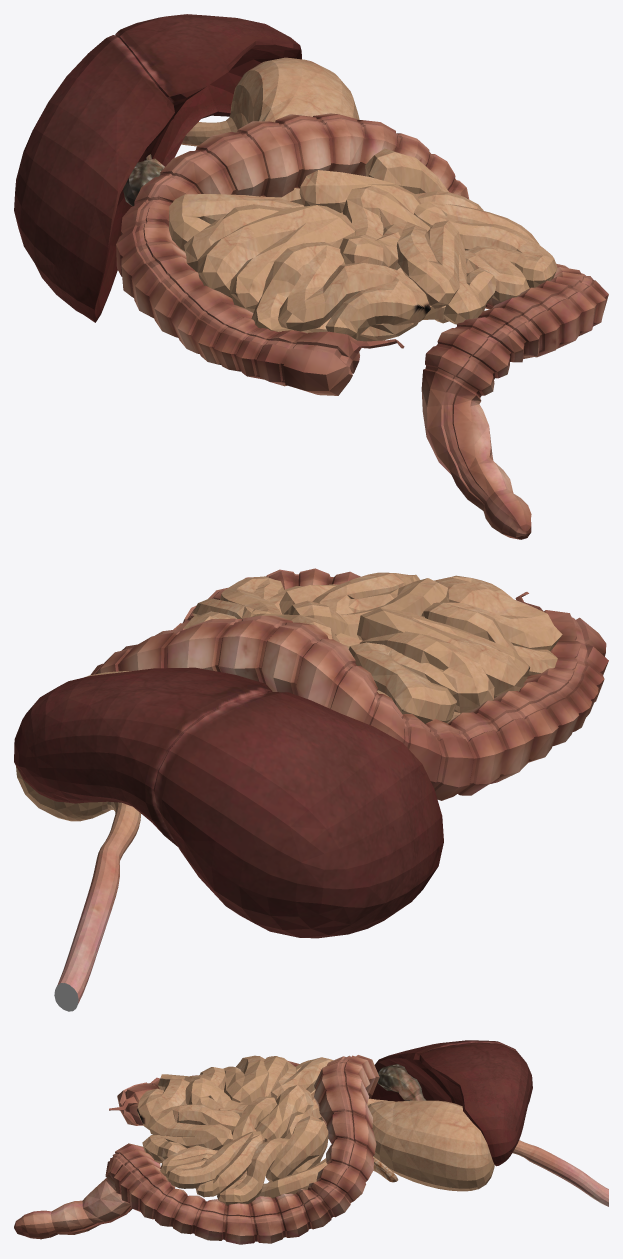
File: digestive_system2.glb
3 renders of one model, top to bottom at view 1: azimuth 30°, elevation 25°; view 2: azimuth 150°, elevation 25°; view 3: azimuth 270°, elevation 25°, orthographic. The views are drawn at different scales.
Bounding box in the file's own units: 227 × 148 × 443.
1 material, 1 textured.
